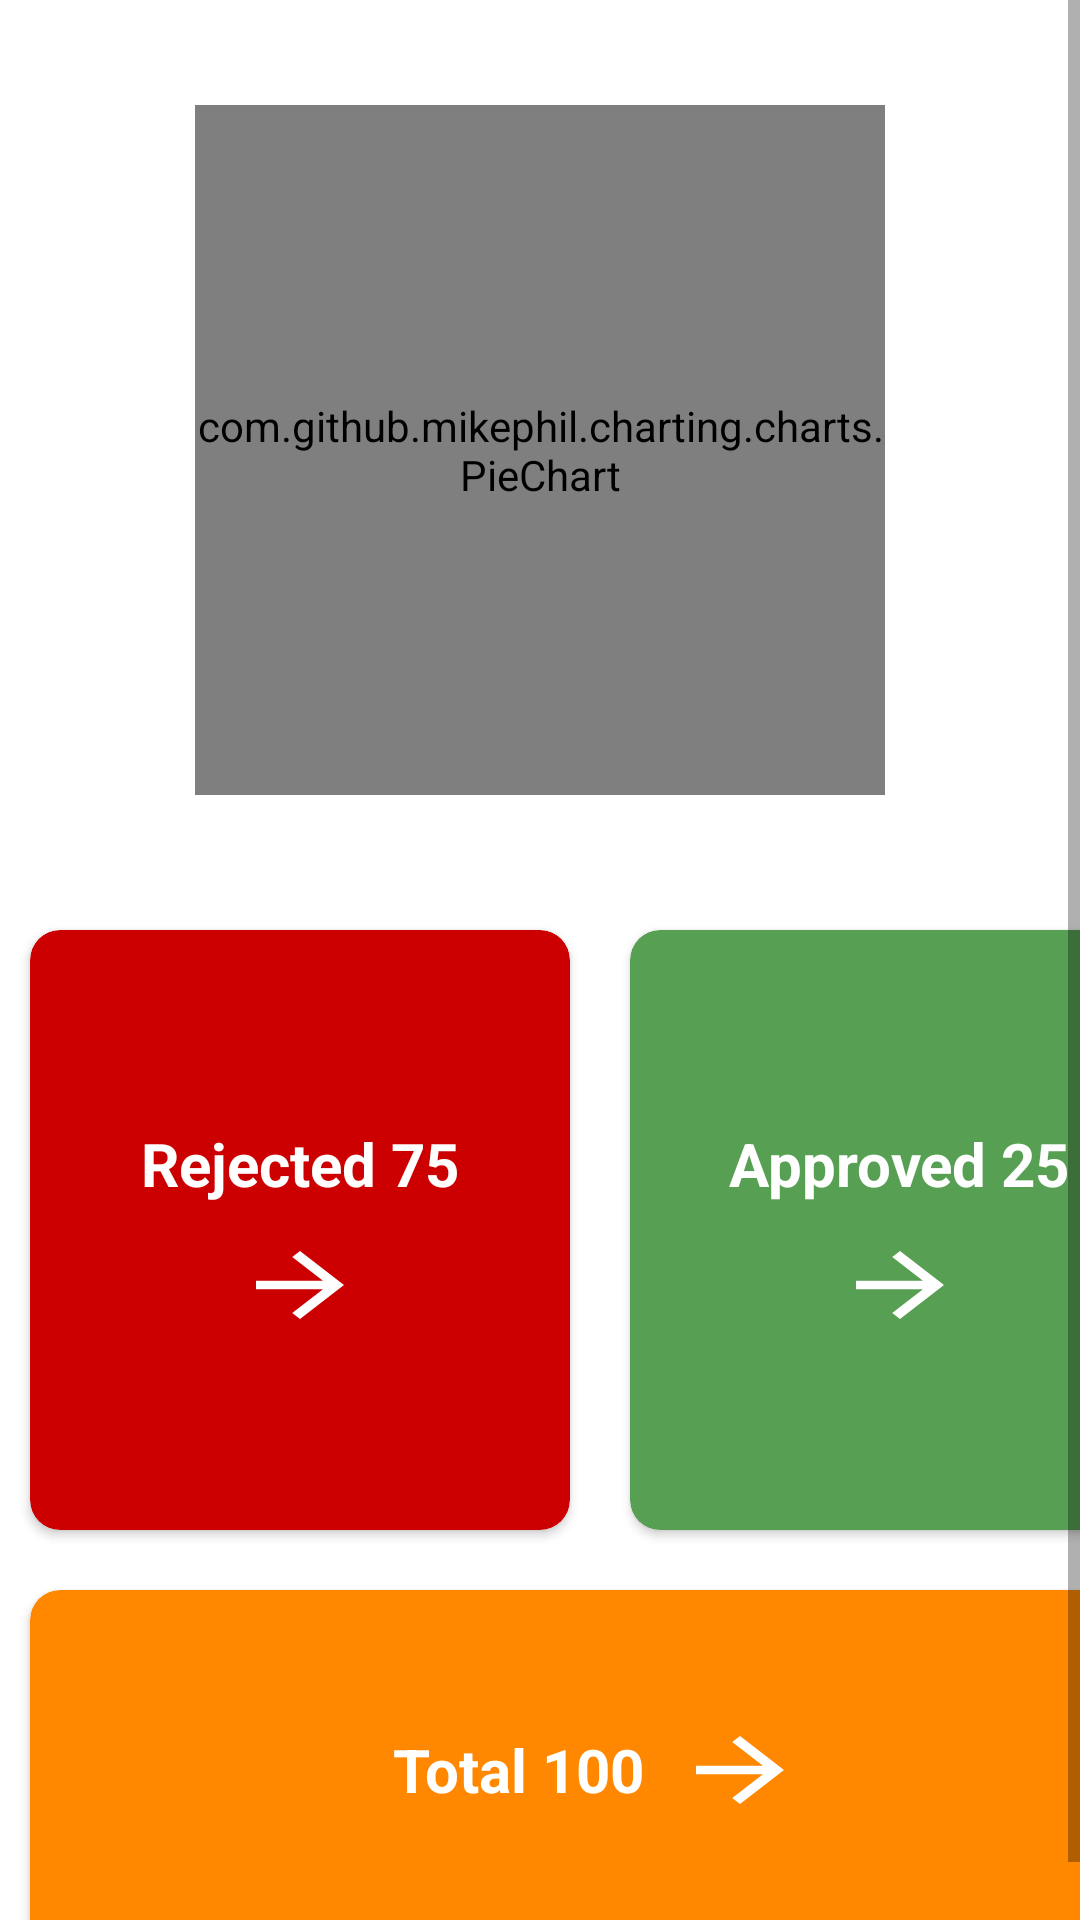

Icons on this 1080*1920 Android screen, each with the point to tap as point (x, y):
next: point (300, 1285), point (900, 1285), point (740, 1770)
